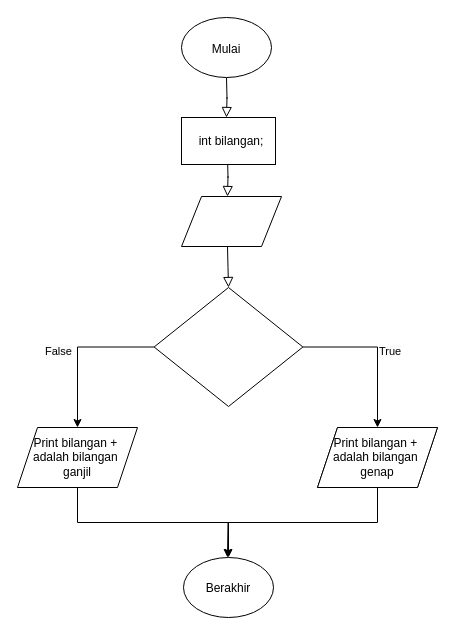
This 455x635 diagram has some shape labels left out. Here are the shapes that lost their labels. From the top down, the centre of each, then its label:
the point at 231,221: Input Bilangan
the point at 228,346: bilangan % 2 == 0
